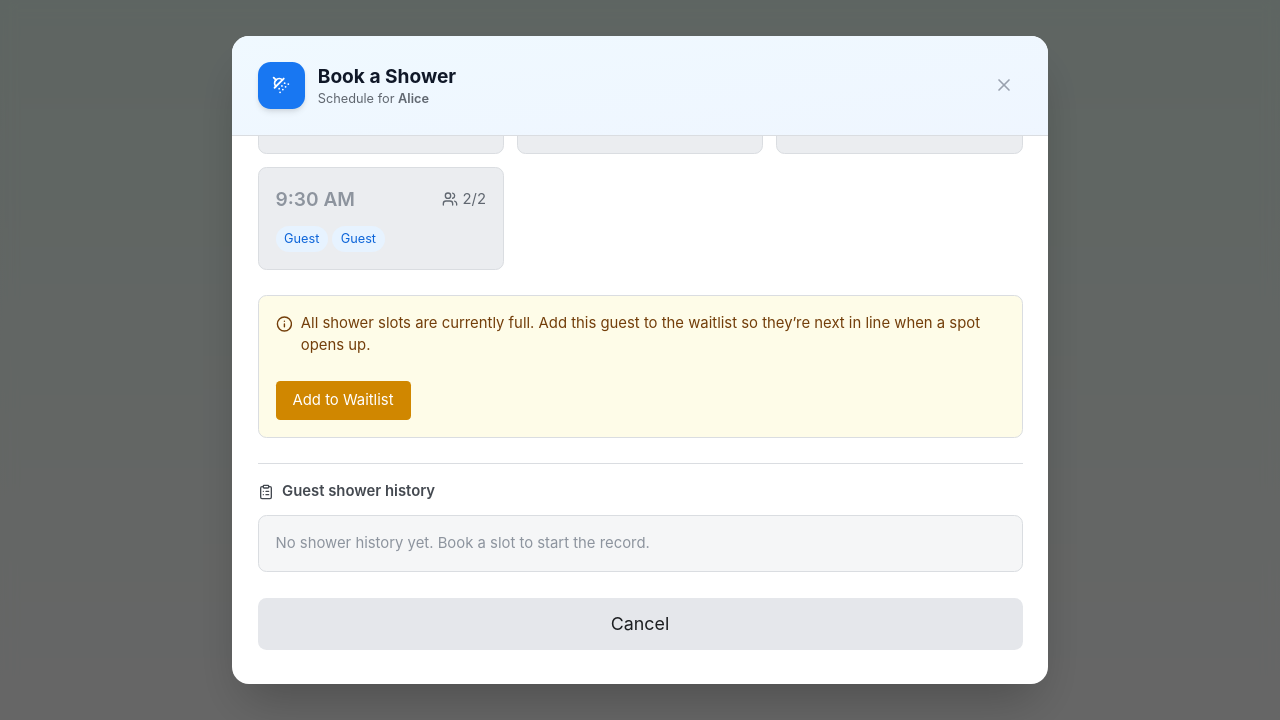
it: ShowerBooking › handles waitlist error
(page scrolled)
Step 1. Click the button "Add to Waitlist" → [343, 400], box [276, 381, 410, 420]
(page scrolled)
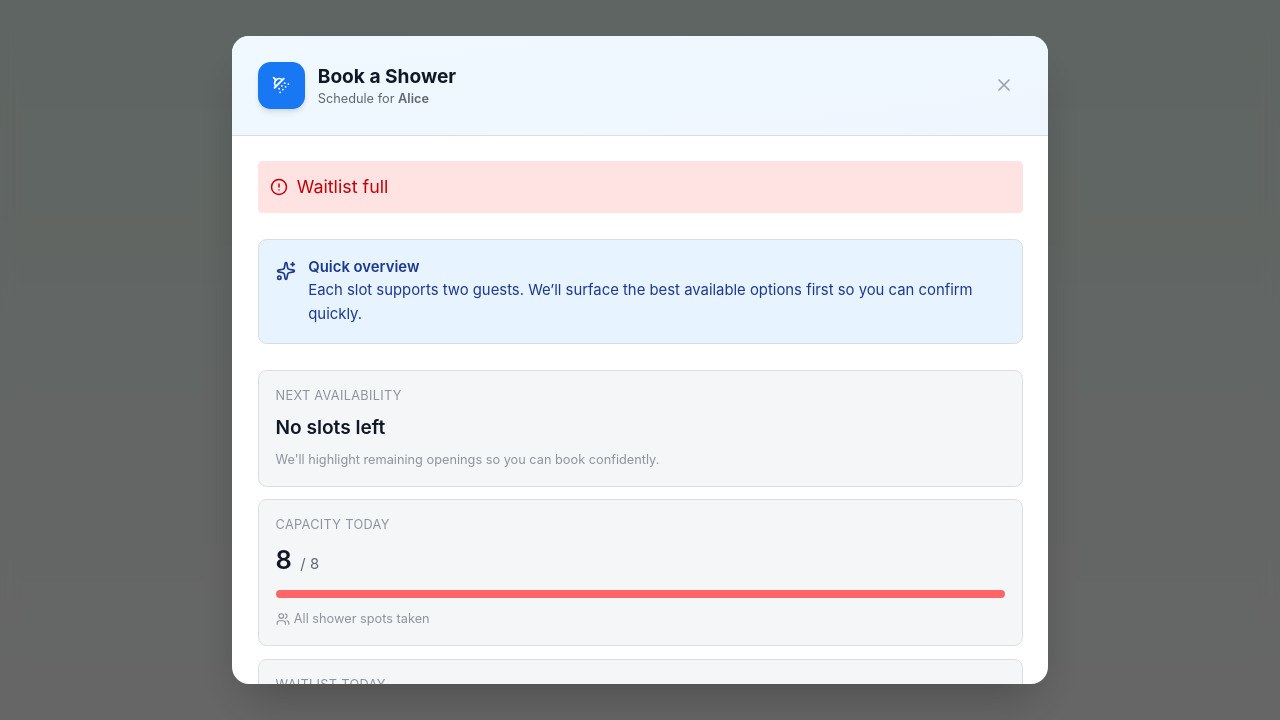
Now the text "Waitlist full" is shown, box [258, 161, 1022, 213]
